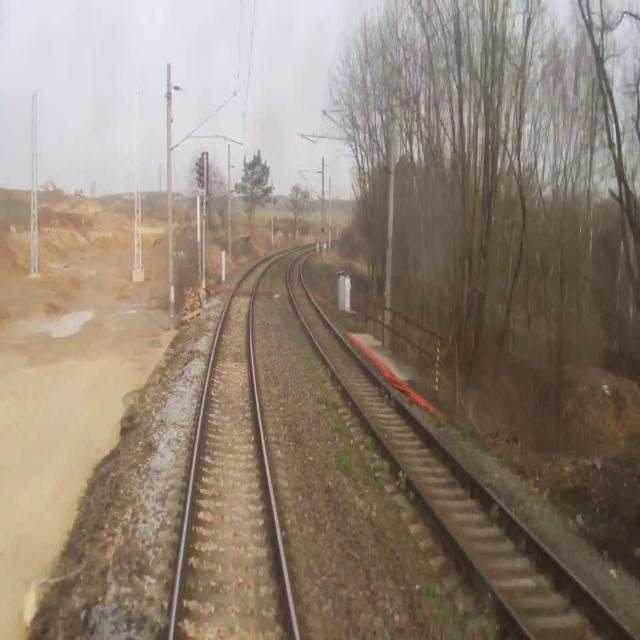rail-track: (288, 248, 632, 639), (172, 245, 305, 639)
